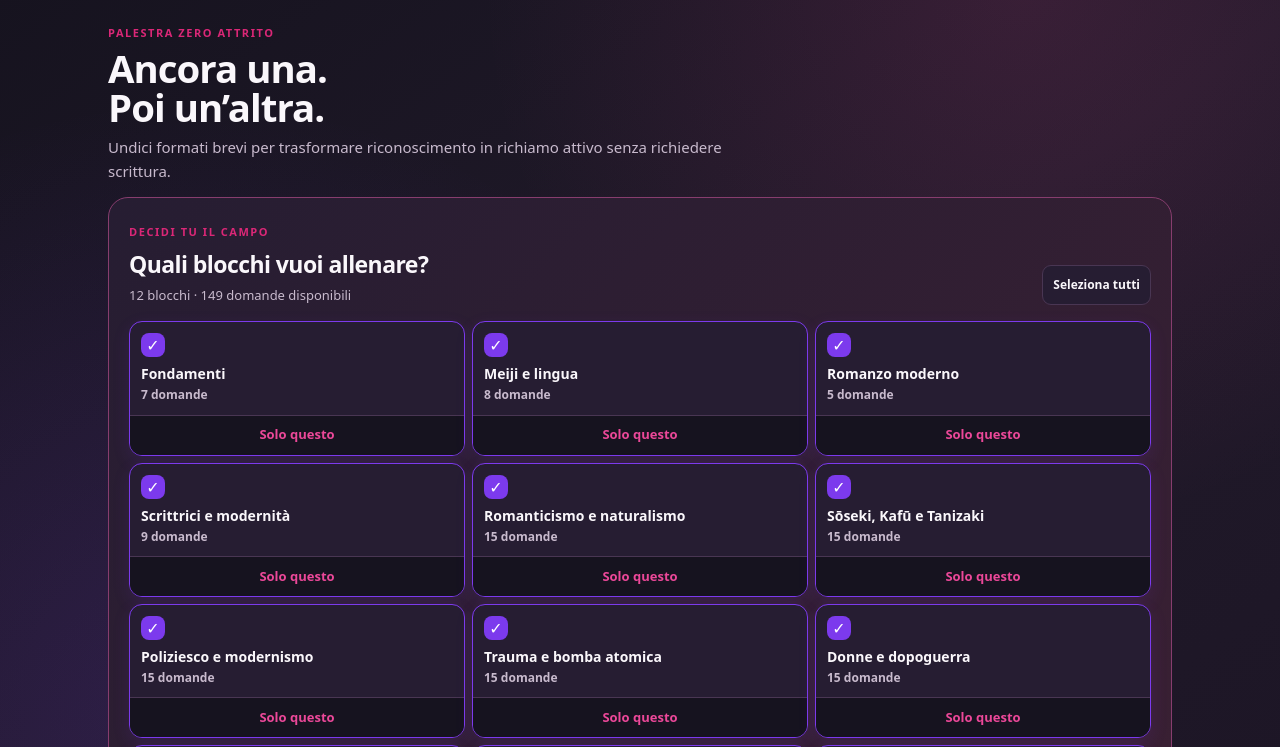
Test: palestra zero attrito › permette di allenare un solo blocco scelto
Click the 5th button "Solo questo" at {"x": 640, "y": 576}, box [473,556,807,596]
(page scrolled)
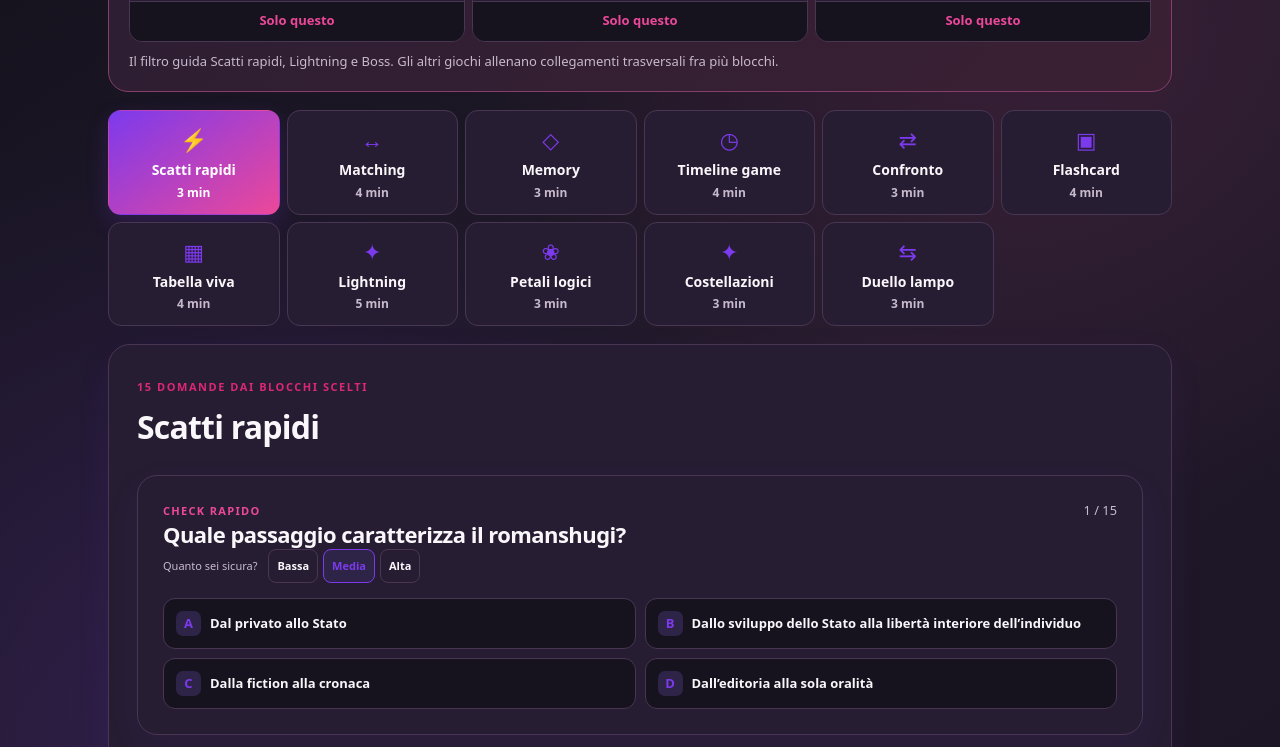
Result: the text "15 domande dai blocchi scelti" is shown at [137,379,368,394]
